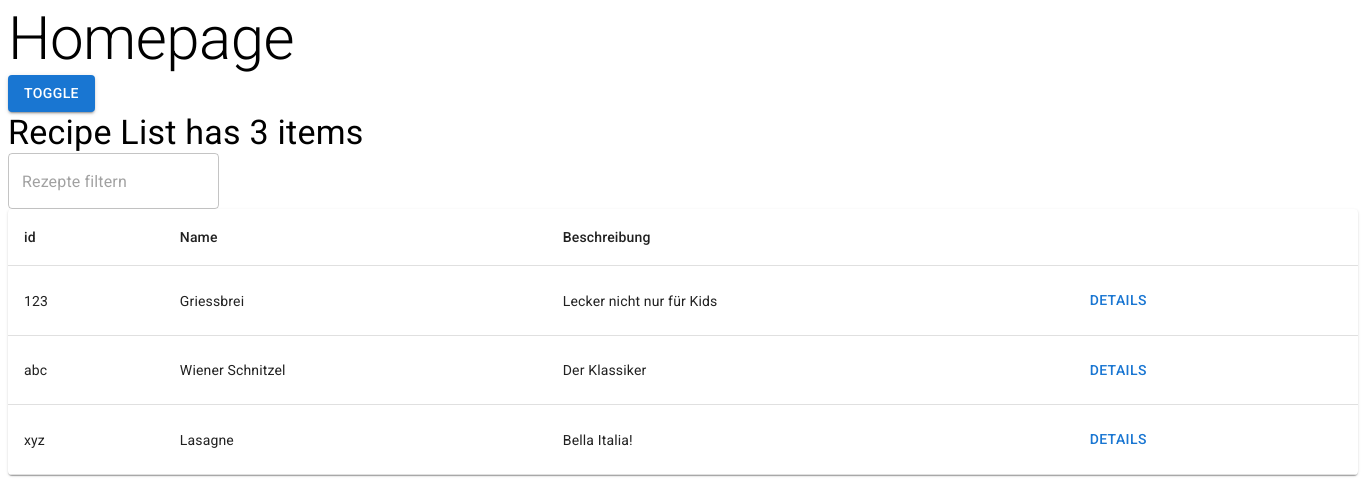
Test case: the homepage › can filter the recipes
Expected: the number of rows is 4, [8,210,1358,266]; [8,266,1358,336]; [8,336,1358,405]; [8,405,1358,474]
Type "ü" into the field at [114, 182], box [8,154,219,210]
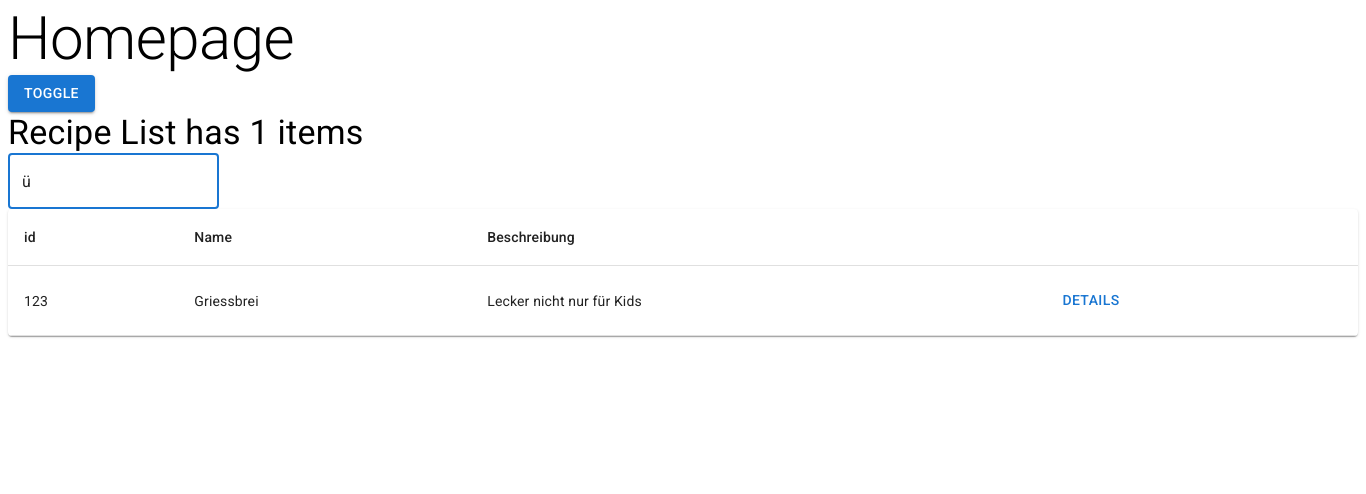
Result: the number of rows is 2 at [8,210,1358,266]; [8,266,1358,336]
